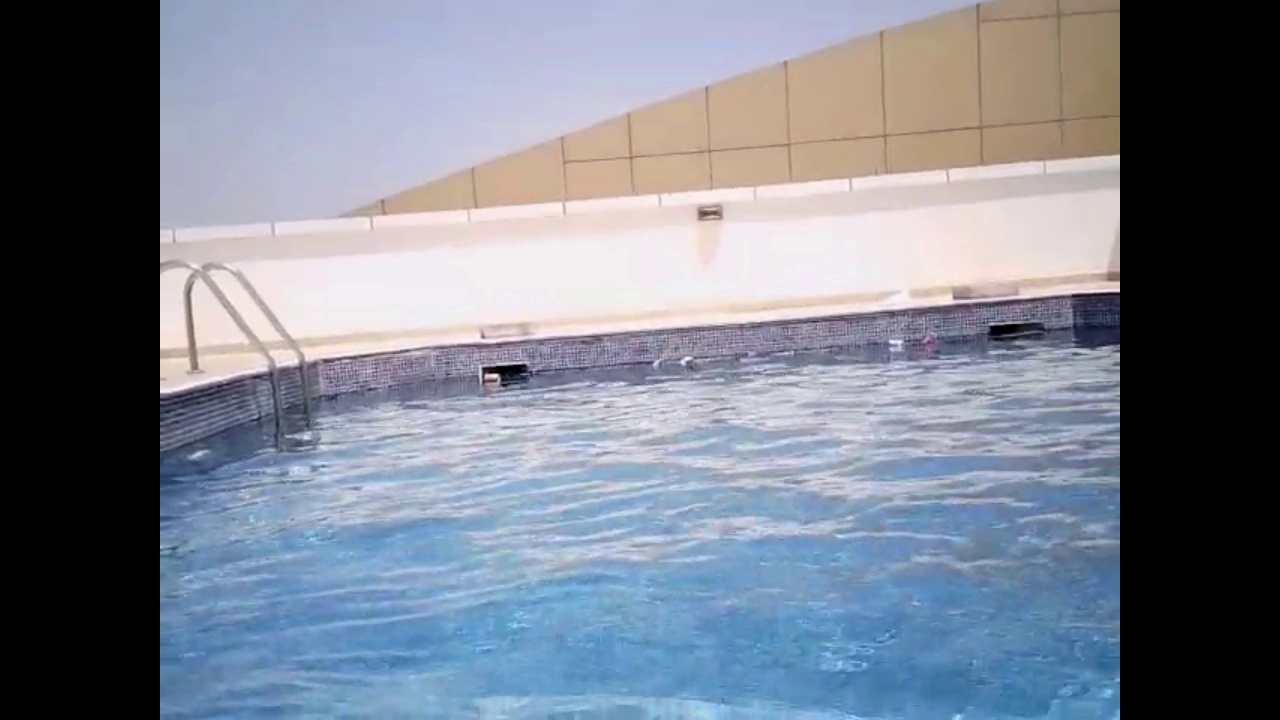debris: (675, 355, 702, 375), (914, 332, 940, 352), (479, 370, 506, 387), (884, 335, 907, 352), (648, 357, 666, 374)
